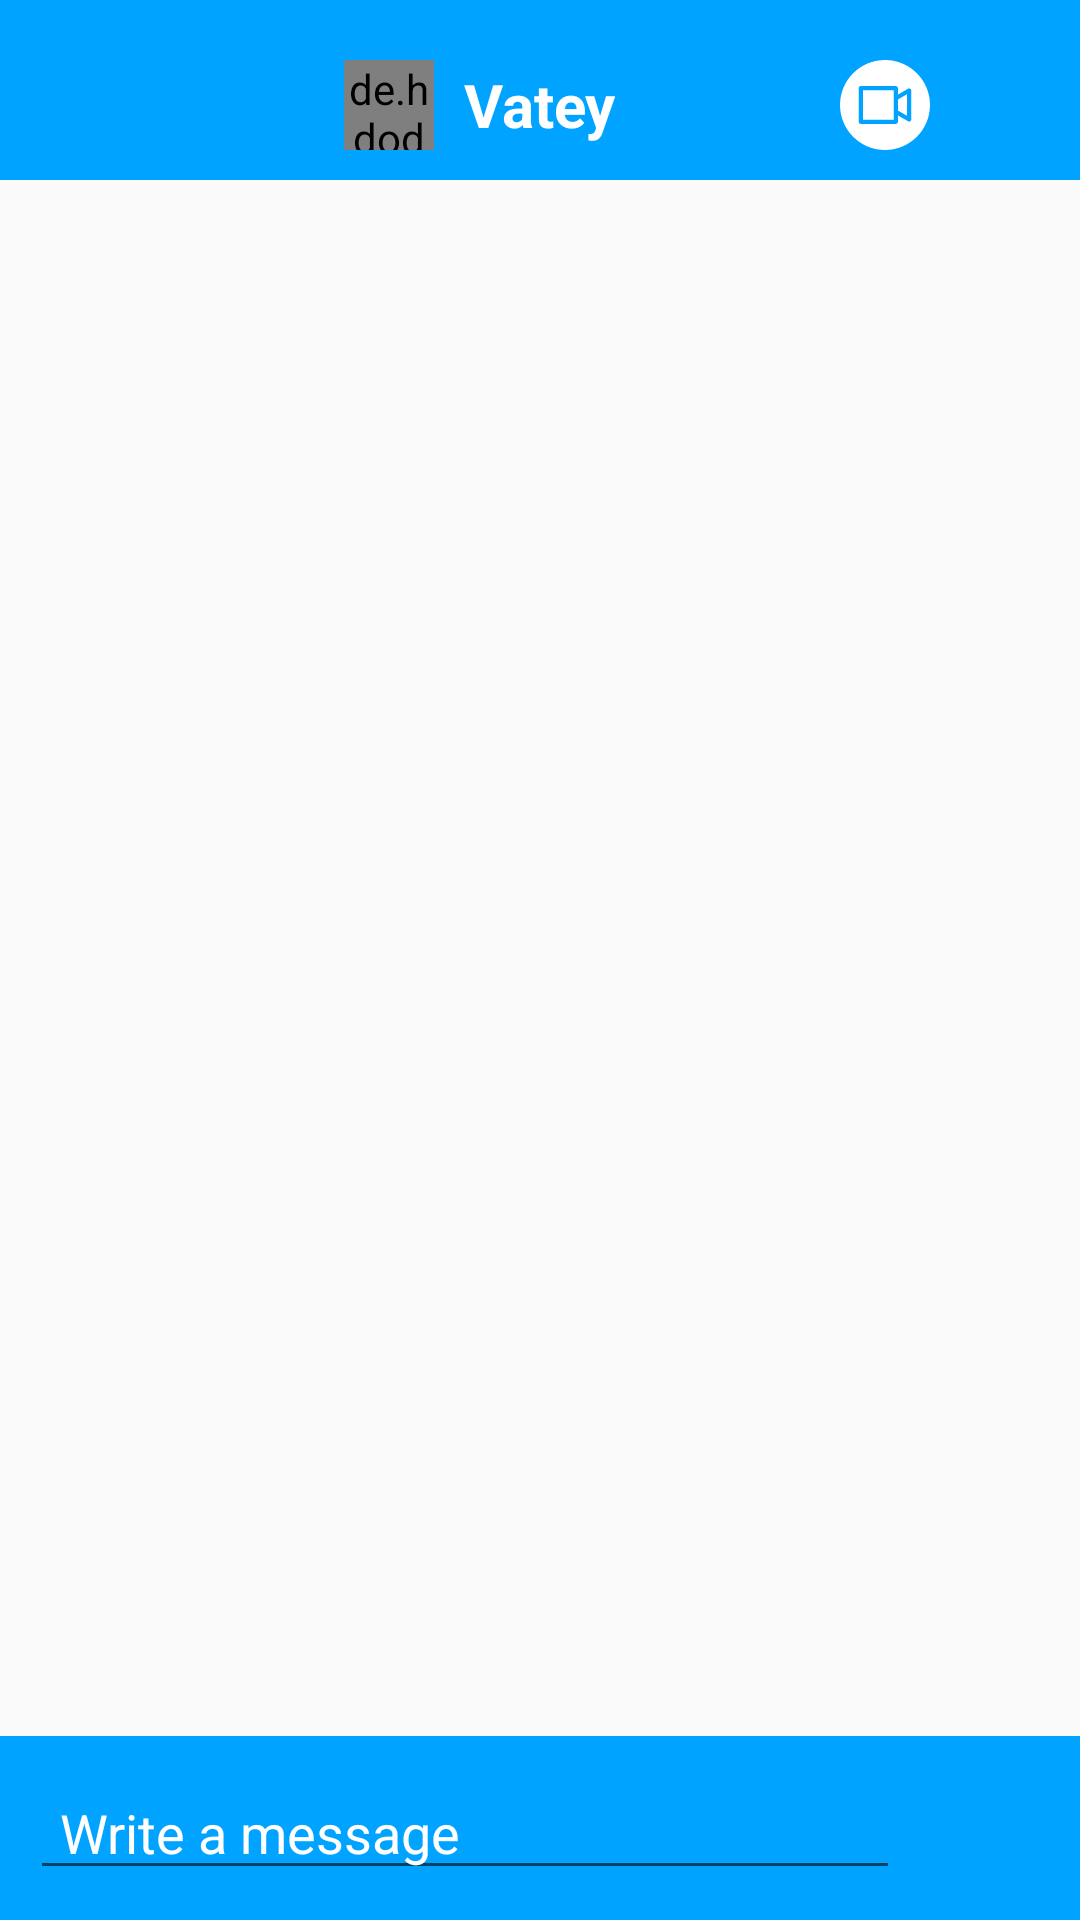

Icons on this 1080 x 1920 Android screen, each with the point to tap as (x=x, y=y):
video call: (x=885, y=105)
